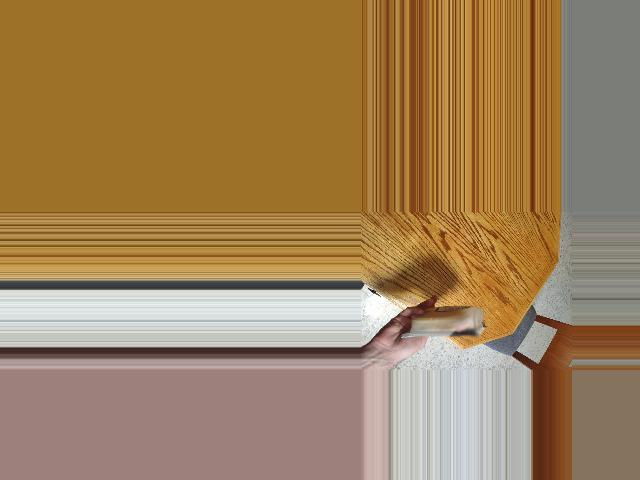cheese: (406, 303, 479, 353)
